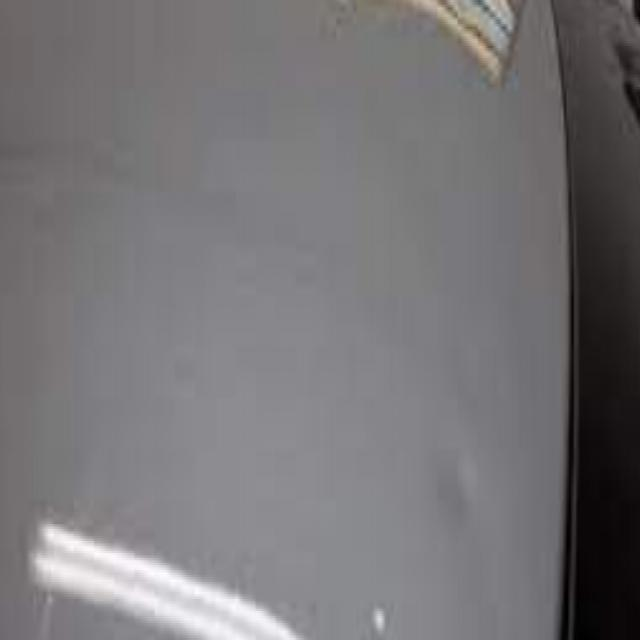dents: (436, 424, 490, 550)
